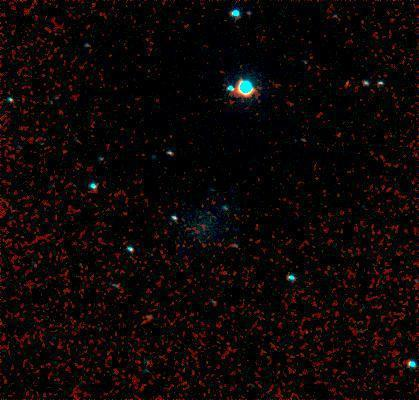star: (335, 67, 365, 97)
